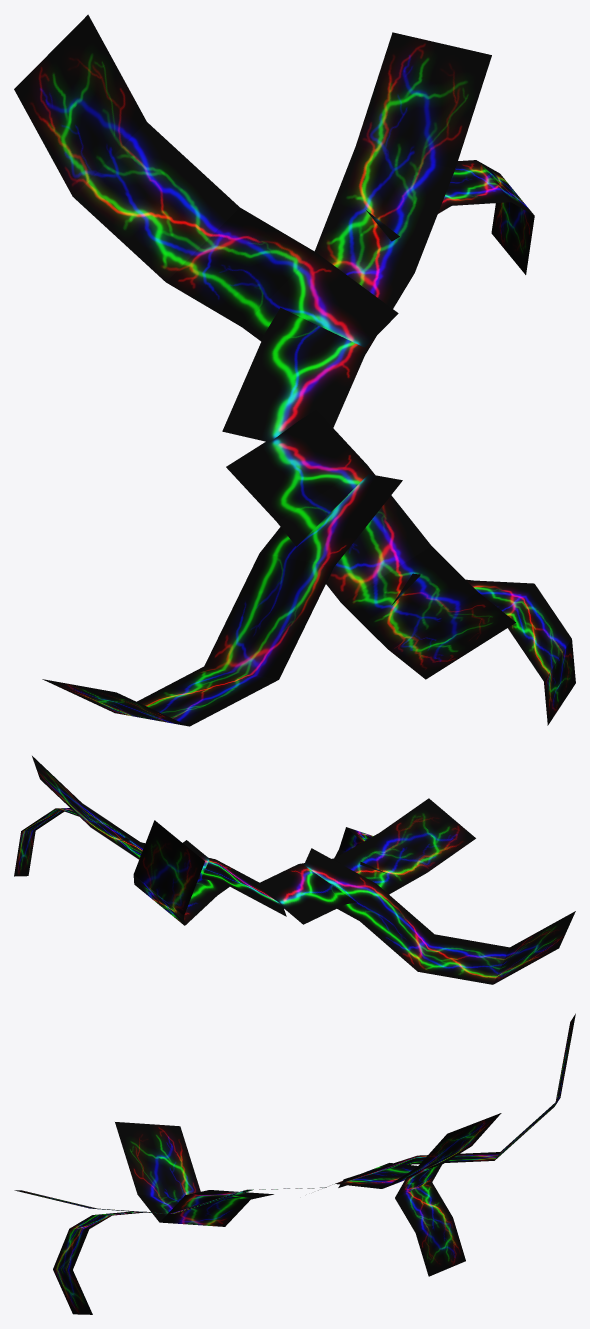
Rendered from Effect2.FBX.
3 renders of one model, top to bottom at view 1: azimuth 30°, elevation 25°; view 2: azimuth 150°, elevation 25°; view 3: azimuth 270°, elevation 25°, orthographic. The views are drawn at different scales.
Parts seen in each view (by area): view 1: lightning_SM_003; view 2: lightning_SM_003; view 3: lightning_SM_003.
Boxes of the visible parts, x1,y1,x2,y2 form: lightning_SM_003: (14,14,575,726); lightning_SM_003: (14,756,575,984); lightning_SM_003: (14,1013,575,1314).
Bounding box in the file's own units: 290 × 179 × 325.
